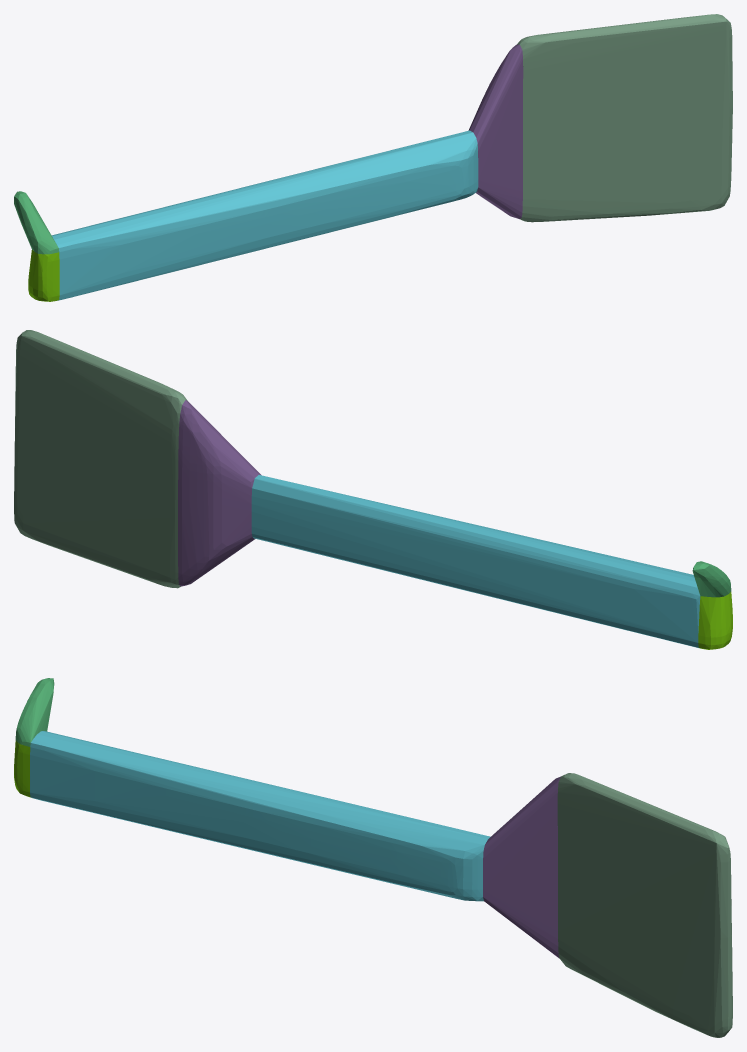
File: flat_spatula.obj
3 views of the same model, one above another, from view 1: azimuth 30°, elevation 25°; view 2: azimuth 150°, elevation 25°; view 3: azimuth 330°, elevation 25° (orthographic). The views are drawn at different scales.
Visible parts, largest first — view 1: geometry_0, geometry_2, geometry_1, geometry_4, geometry_3; view 2: geometry_0, geometry_2, geometry_1, geometry_4, geometry_3; view 3: geometry_0, geometry_2, geometry_1, geometry_3, geometry_4.
Boxes of the visible parts, x1=… form: geometry_0: x1=517, y1=14, x2=732, y2=222; geometry_2: x1=51, y1=130, x2=478, y2=300; geometry_1: x1=468, y1=44, x2=523, y2=219; geometry_4: x1=28, y1=250, x2=59, y2=301; geometry_3: x1=14, y1=191, x2=59, y2=254; geometry_0: x1=14, y1=330, x2=187, y2=588; geometry_2: x1=251, y1=475, x2=700, y2=648; geometry_1: x1=178, y1=400, x2=261, y2=586; geometry_4: x1=698, y1=592, x2=732, y2=649; geometry_3: x1=692, y1=561, x2=731, y2=597; geometry_0: x1=557, y1=773, x2=732, y2=1037; geometry_2: x1=30, y1=731, x2=490, y2=901; geometry_1: x1=483, y1=776, x2=560, y2=958; geometry_3: x1=15, y1=678, x2=54, y2=746; geometry_4: x1=14, y1=740, x2=30, y2=797.
Bounding box in the file's own units: 0.3522 × 0.0959 × 0.035.
